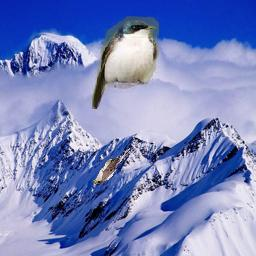Cuckoo: (92, 148, 130, 185)
Swallow: (93, 17, 160, 110)
